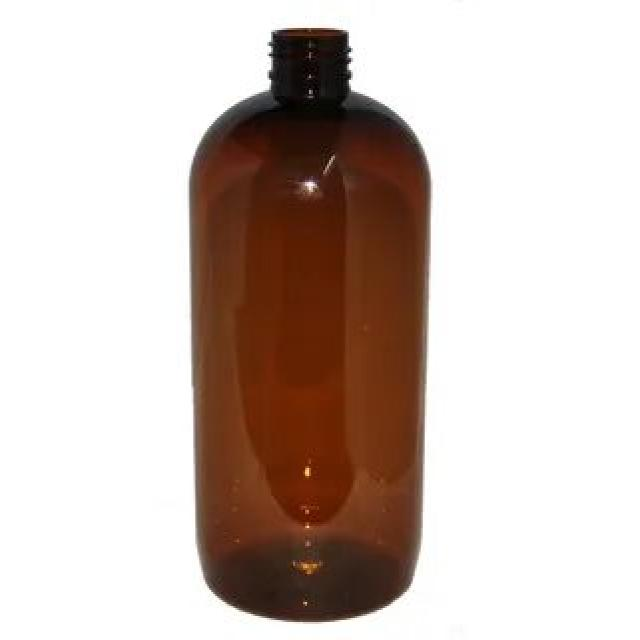brown: (186, 25, 427, 622)
